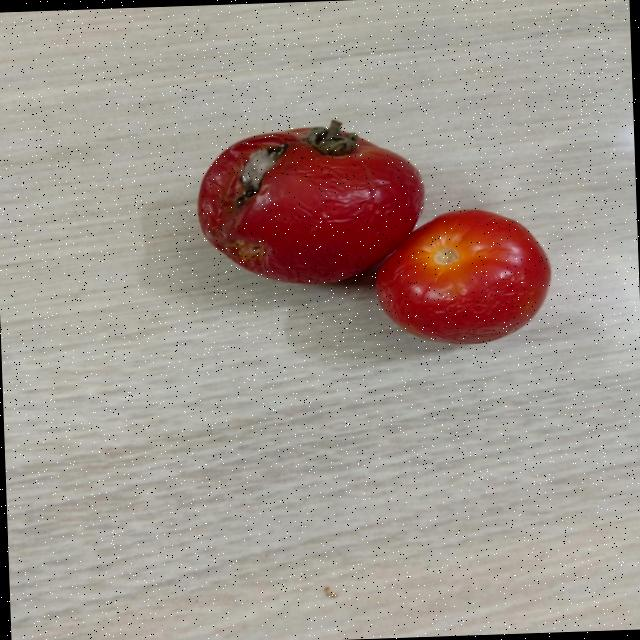Rotten: (194, 119, 425, 288)
